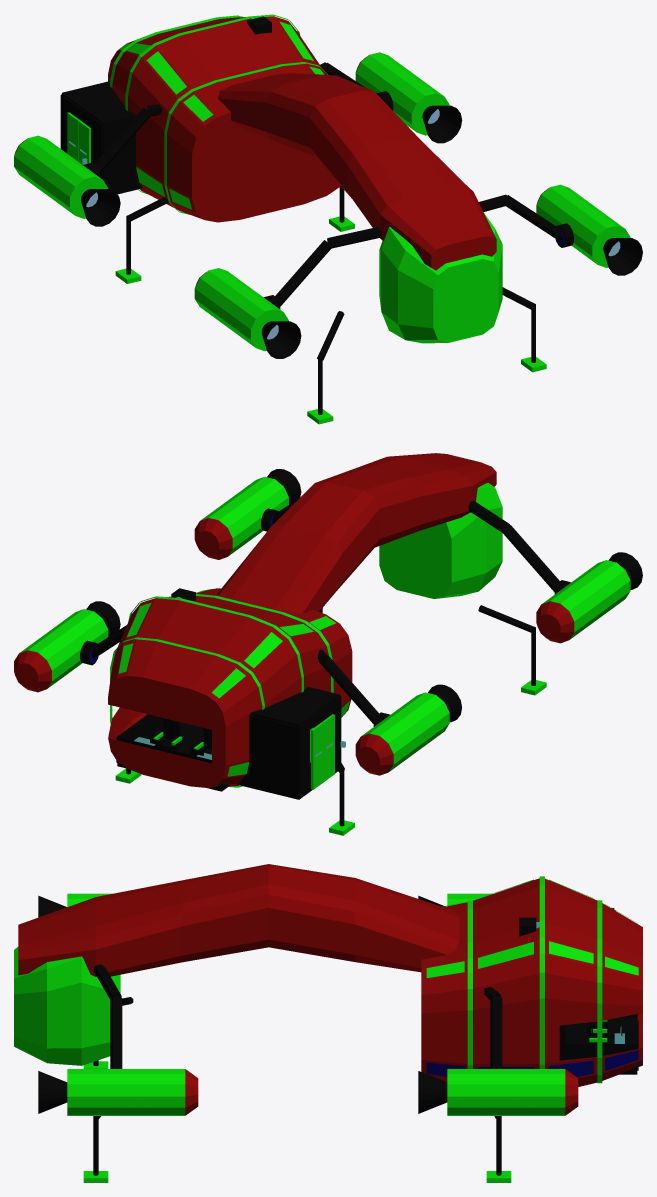
Rendered from porter.glb.
3 renders of one model, top to bottom at view 1: azimuth 30°, elevation 25°; view 2: azimuth 150°, elevation 25°; view 3: azimuth 270°, elevation 25°, orthographic. The views are drawn at different scales.
Parts seen in each view (by area): view 1: expedition_porter:pressure_hull_0, expedition_porter:arched_load_spine, expedition_porter:aft_service_bustle, expedition_porter:rocket_pod_-1_1, expedition_porter:rocket_pod_-1_0, expedition_porter:rocket_pod_1_1, expedition_porter:rocket_pod_1_0, expedition_porter:spine_pod_yokes, expedition_porter:room_eva, expedition_porter:service_panels_0, expedition_porter:habitat_seams_1, expedition_porter:ceiling_eva (+1 smaller); view 2: expedition_porter:pressure_hull_0, expedition_porter:arched_load_spine, expedition_porter:aft_service_bustle, expedition_porter:room_eva, expedition_porter:rocket_pod_-1_0, expedition_porter:rocket_pod_-1_1, expedition_porter:rocket_pod_1_0, expedition_porter:rocket_pod_1_1, expedition_porter:spine_pod_yokes, expedition_porter:service_panels_0, expedition_porter:habitat_seams_1, expedition_porter:room_bridge (+6 smaller); view 3: expedition_porter:arched_load_spine, expedition_porter:pressure_hull_0, expedition_porter:aft_service_bustle, expedition_porter:rocket_pod_1_1, expedition_porter:rocket_pod_1_0, expedition_porter:service_panels_0, expedition_porter:habitat_seams_1, expedition_porter:spine_pod_yokes, expedition_porter:room_bridge, expedition_porter:rocket_pod_-1_1, expedition_porter:gear_1, expedition_porter:gear_3 (+1 smaller).
Part boxes in pixels (left/top/right/bottom): expedition_porter:pressure_hull_0: left=108, top=16, right=340, bottom=222; expedition_porter:arched_load_spine: left=217, top=73, right=496, bottom=270; expedition_porter:aft_service_bustle: left=379, top=213, right=502, bottom=343; expedition_porter:rocket_pod_-1_1: left=194, top=268, right=301, bottom=358; expedition_porter:rocket_pod_-1_0: left=14, top=135, right=120, bottom=226; expedition_porter:rocket_pod_1_1: left=536, top=184, right=642, bottom=275; expedition_porter:rocket_pod_1_0: left=355, top=52, right=462, bottom=143; expedition_porter:spine_pod_yokes: left=83, top=62, right=573, bottom=309; expedition_porter:room_eva: left=60, top=94, right=142, bottom=194; expedition_porter:service_panels_0: left=119, top=21, right=323, bottom=209; expedition_porter:habitat_seams_1: left=110, top=14, right=327, bottom=214; expedition_porter:ceiling_eva: left=62, top=81, right=135, bottom=124; expedition_porter:pressure_hull_0: left=108, top=588, right=352, bottom=787; expedition_porter:arched_load_spine: left=217, top=453, right=496, bottom=613; expedition_porter:aft_service_bustle: left=379, top=483, right=502, bottom=598; expedition_porter:room_eva: left=236, top=696, right=341, bottom=799; expedition_porter:rocket_pod_-1_0: left=355, top=684, right=461, bottom=775; expedition_porter:rocket_pod_-1_1: left=536, top=552, right=642, bottom=643; expedition_porter:rocket_pod_1_0: left=14, top=601, right=120, bottom=692; expedition_porter:rocket_pod_1_1: left=194, top=469, right=301, bottom=559; expedition_porter:spine_pod_yokes: left=80, top=498, right=570, bottom=726; expedition_porter:service_panels_0: left=118, top=589, right=349, bottom=776; expedition_porter:habitat_seams_1: left=110, top=594, right=333, bottom=787; expedition_porter:room_bridge: left=116, top=714, right=229, bottom=791; expedition_porter:arched_load_spine: left=18, top=864, right=459, bottom=976; expedition_porter:pressure_hull_0: left=421, top=878, right=642, bottom=1086; expedition_porter:aft_service_bustle: left=14, top=947, right=120, bottom=1065; expedition_porter:rocket_pod_1_1: left=38, top=1069, right=198, bottom=1115; expedition_porter:rocket_pod_1_0: left=418, top=1069, right=578, bottom=1115; expedition_porter:service_panels_0: left=426, top=879, right=638, bottom=1076; expedition_porter:habitat_seams_1: left=467, top=876, right=602, bottom=1083; expedition_porter:spine_pod_yokes: left=93, top=964, right=502, bottom=1068; expedition_porter:room_bridge: left=559, top=1014, right=638, bottom=1074; expedition_porter:rocket_pod_-1_1: left=38, top=893, right=111, bottom=917; expedition_porter:gear_1: left=486, top=1116, right=511, bottom=1182; expedition_porter:gear_3: left=83, top=1116, right=108, bottom=1182.
Size of the model in its own units: 16 by 9.57 by 21.85.
